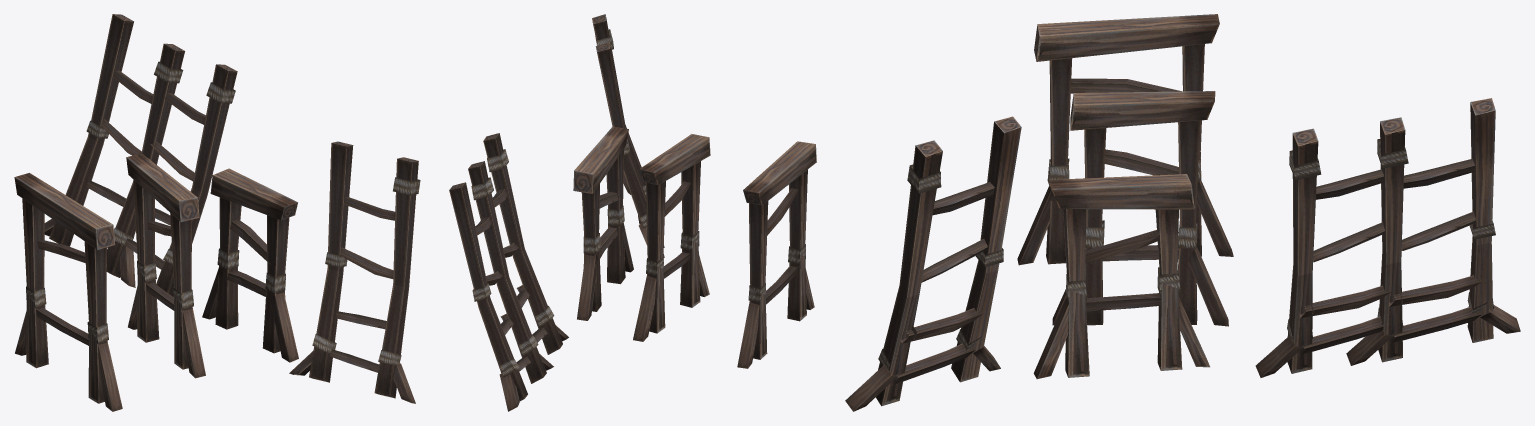
Rendered from object_mine_reinforcements.fbx.
3 views of the same model, side by side, from view 1: azimuth 30°, elevation 25°; view 2: azimuth 150°, elevation 25°; view 3: azimuth 270°, elevation 25° (orthographic). The views are drawn at different scales.
Parts seen in each view (by area): view 1: obj0.075; view 2: obj0.075; view 3: obj0.075.
Part boxes in pixels (box(x1,y1,x2,y2)): obj0.075: box(14, 14, 420, 411); obj0.075: box(449, 14, 816, 411); obj0.075: box(845, 14, 1520, 411).
Size of the model in its own units: 14.23 by 10.61 by 22.47.
